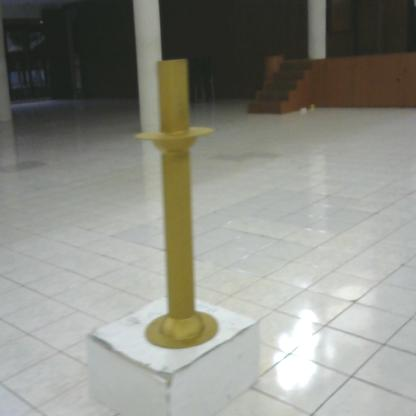pole: (129, 45, 228, 355)
